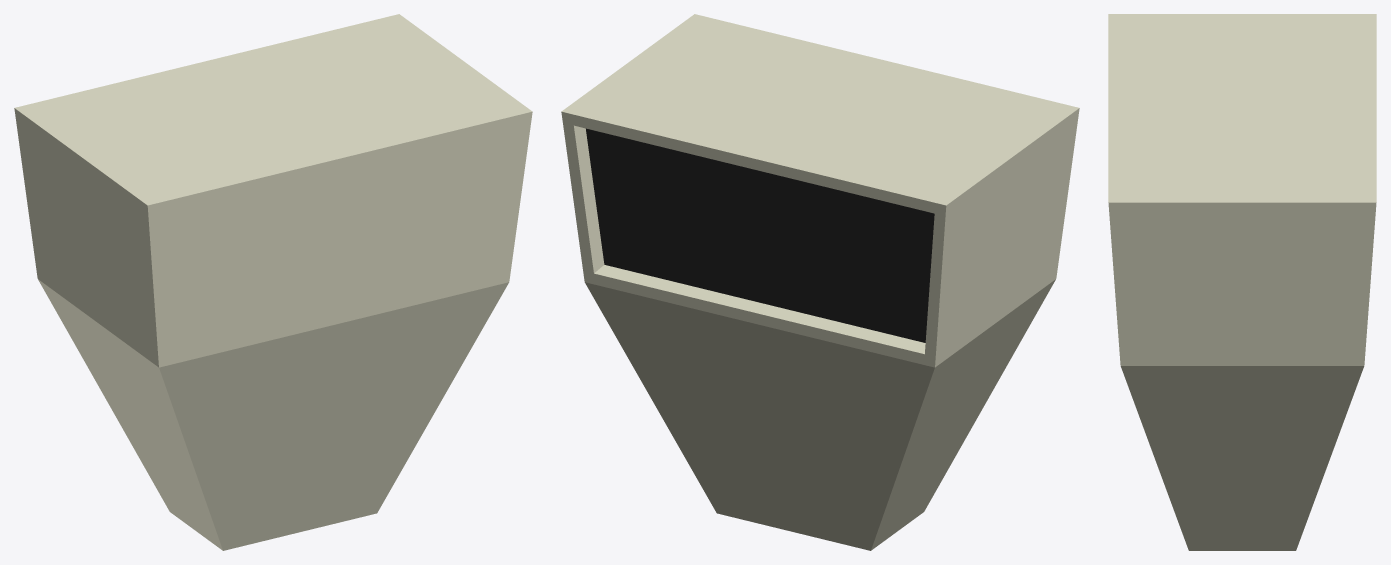
The model's file is Body.fbx.
3 renders of one model, left to right at view 1: azimuth 30°, elevation 25°; view 2: azimuth 150°, elevation 25°; view 3: azimuth 270°, elevation 25°, orthographic.
Parts seen in each view (by area): view 1: Cube; view 2: Cube; view 3: Cube.
Part boxes in pixels (left/top/right/bottom): Cube: left=14, top=14, right=532, bottom=550; Cube: left=561, top=14, right=1079, bottom=550; Cube: left=1108, top=14, right=1376, bottom=550.
Bounding box in the file's own units: 15 × 15 × 9.
